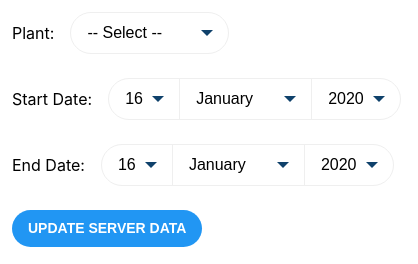
it: validates the form
Select "-- Select --" in the dropdown labelled "Plant:" at {"x": 150, "y": 33}, box [70,12,229,54]
Click the button "Update Server Data" at {"x": 107, "y": 228}, box [12,210,202,246]
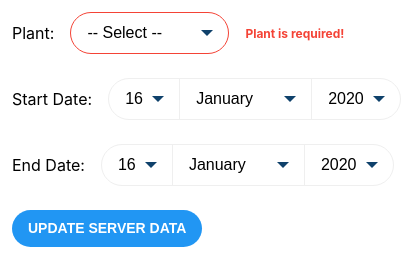
Check: the text "Plant is required!" is shown, box [245,26,344,40]
